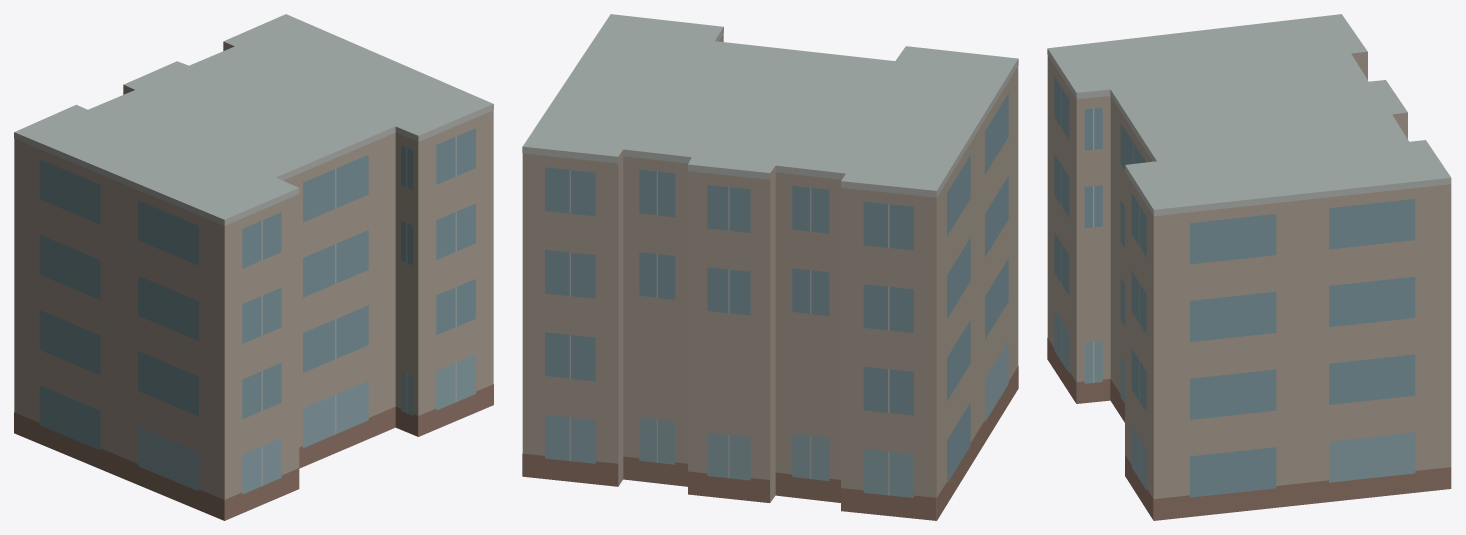
The model's file is survey-upis-32704106.glb.
The picture shows the model from 3 angles, left to right: view 1: azimuth 30°, elevation 25°; view 2: azimuth 150°, elevation 25°; view 3: azimuth 270°, elevation 25°; orthographic projection. The views are drawn at different scales.
Parts seen in each view (by area): view 1: survey-upis-32704106.tmp; view 2: survey-upis-32704106.tmp; view 3: survey-upis-32704106.tmp.
Boxes of the visible parts, x1=… form: survey-upis-32704106.tmp: x1=14, y1=14, x2=493, y2=520; survey-upis-32704106.tmp: x1=522, y1=14, x2=1018, y2=520; survey-upis-32704106.tmp: x1=1047, y1=14, x2=1451, y2=520.
Bounding box in the file's own units: 16.22 × 12 × 14.14.
